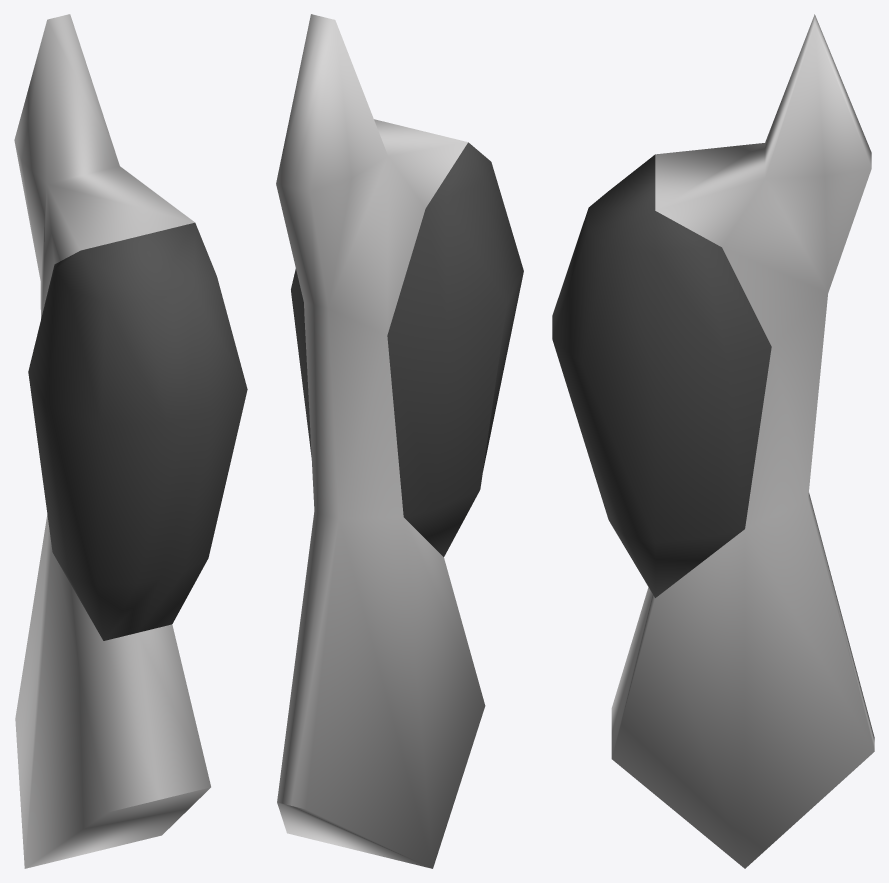
The model's file is RLeagUnder.fbx.
The picture shows the model from 3 angles, left to right: view 1: azimuth 30°, elevation 25°; view 2: azimuth 150°, elevation 25°; view 3: azimuth 270°, elevation 25°; orthographic projection. The views are drawn at different scales.
Visible parts, largest first — view 1: Shape_IndexedFaceSet.051, Shape_IndexedFaceSet.050; view 2: Shape_IndexedFaceSet.050, Shape_IndexedFaceSet.051; view 3: Shape_IndexedFaceSet.050, Shape_IndexedFaceSet.051.
Boxes of the visible parts, x1=… form: Shape_IndexedFaceSet.051: x1=28, y1=222, x2=247, y2=640; Shape_IndexedFaceSet.050: x1=14, y1=14, x2=210, y2=868; Shape_IndexedFaceSet.050: x1=276, y1=14, x2=485, y2=868; Shape_IndexedFaceSet.051: x1=291, y1=142, x2=523, y2=556; Shape_IndexedFaceSet.050: x1=611, y1=14, x2=874, y2=868; Shape_IndexedFaceSet.051: x1=552, y1=154, x2=771, y2=597.
Size of the model in its own units: 0.1349 by 0.5573 by 0.1998.
Materials: 2 (2 with a texture image).
